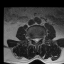CCS_normal: (35, 36, 37, 44)
LFS_normal: (40, 35, 42, 41)
LLS_normal: (37, 36, 40, 43)
RFS_stenosis: (31, 35, 33, 42)
RLS_normal: (33, 36, 35, 43)
